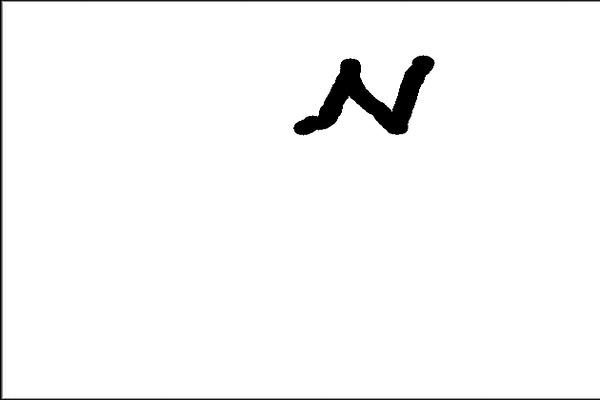N: (286, 46, 440, 144)
